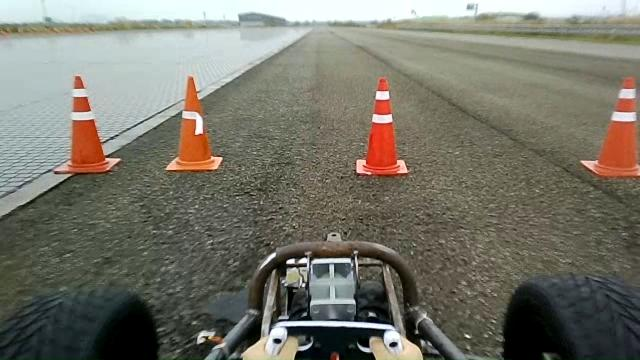red cone: (53, 74, 122, 174), (580, 75, 639, 179), (164, 74, 223, 172), (355, 76, 409, 176)
